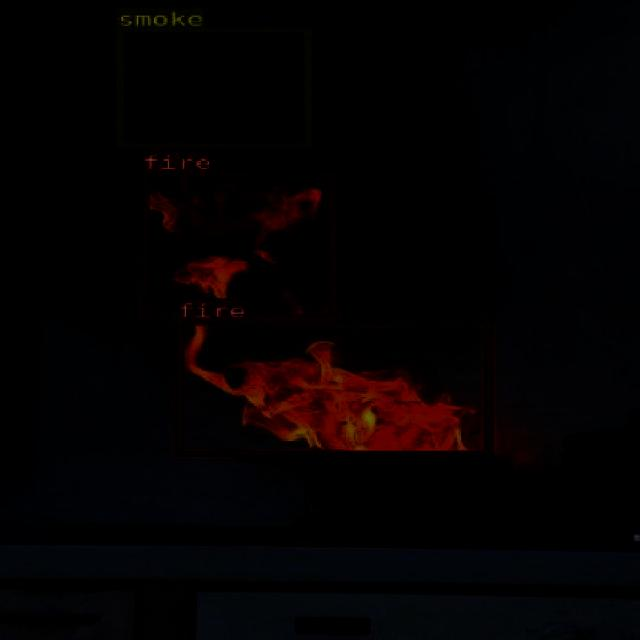fire: (173, 318, 492, 454), (138, 170, 336, 318)
smoke: (114, 26, 310, 146)
